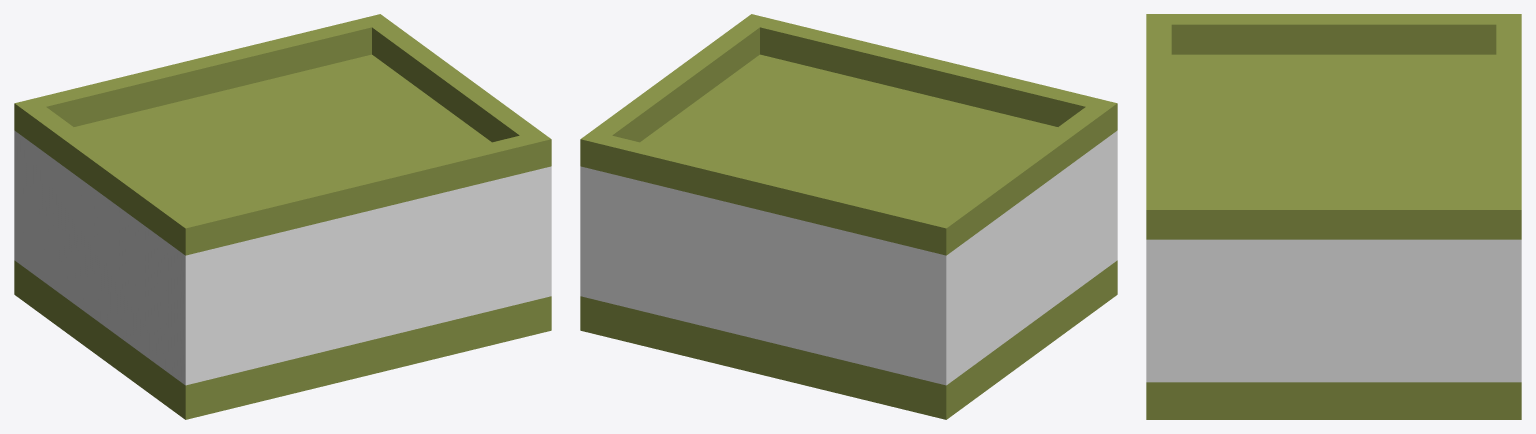
File: Map-Shop-Lv1-G.fbx
3 views of the same model, side by side, from view 1: azimuth 30°, elevation 25°; view 2: azimuth 150°, elevation 25°; view 3: azimuth 270°, elevation 25° (orthographic). The views are drawn at different scales.
Visible parts, largest first — view 1: Map-Shop-Lv1-G; view 2: Map-Shop-Lv1-G; view 3: Map-Shop-Lv1-G.
Boxes of the visible parts, bbox=[...] form: Map-Shop-Lv1-G: bbox=[14, 14, 551, 419]; Map-Shop-Lv1-G: bbox=[580, 14, 1117, 419]; Map-Shop-Lv1-G: bbox=[1146, 14, 1521, 419].
Size of the model in its own units: 2 by 1 by 1.62.
